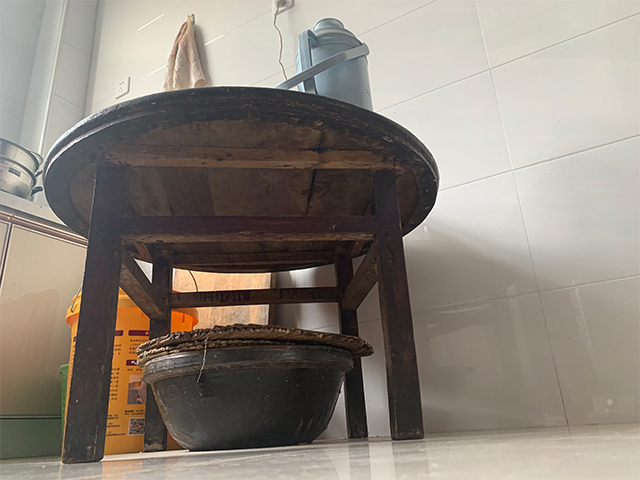table: (41, 84, 440, 465)
